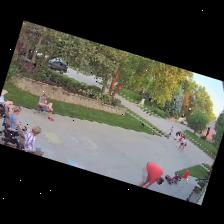person: (138, 162, 163, 188), (10, 107, 26, 137), (38, 95, 53, 121), (25, 127, 41, 150), (0, 90, 13, 112), (182, 139, 188, 151), (179, 139, 185, 150), (168, 127, 173, 138), (34, 150, 42, 156), (175, 132, 180, 140)
